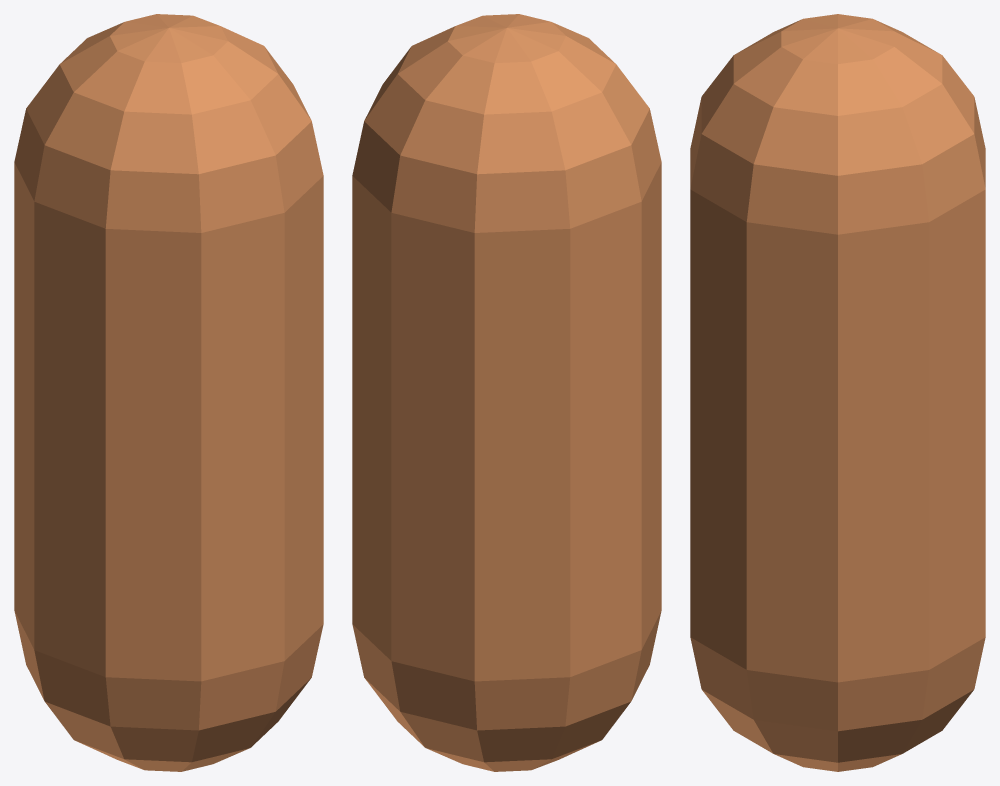
3 renders of one model, left to right at view 1: azimuth 30°, elevation 25°; view 2: azimuth 150°, elevation 25°; view 3: azimuth 270°, elevation 25°, orthographic.
Visible parts, largest first — view 1: capsule; view 2: capsule; view 3: capsule.
Part boxes in pixels (x1,y1,x2,y2): capsule: [14, 14, 323, 771]; capsule: [352, 14, 661, 771]; capsule: [690, 14, 985, 771].
Bounding box in the file's own units: 0.44 × 1.14 × 0.4185.
